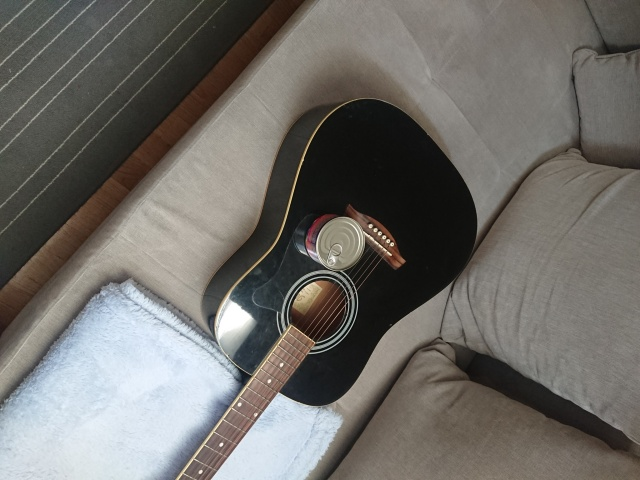Giana Tuna Salad Mexico 185g: (302, 209, 368, 273)
